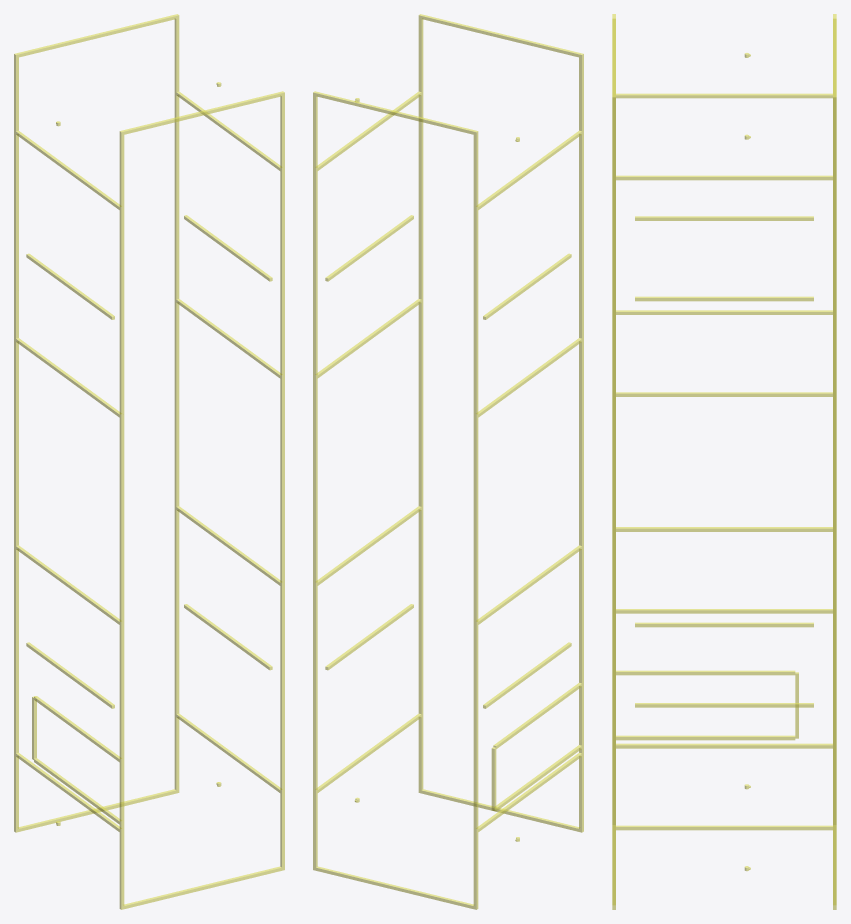
File: VMan_SafetyEnclosure.glb
3 views of the same model, side by side, from view 1: azimuth 30°, elevation 25°; view 2: azimuth 150°, elevation 25°; view 3: azimuth 270°, elevation 25° (orthographic). The views are drawn at different scales.
Parts seen in each view (by area): view 1: VMan_SafetyEnclosure; view 2: VMan_SafetyEnclosure; view 3: VMan_SafetyEnclosure.
Part boxes in pixels (box(x1,y1,x2,y2)): VMan_SafetyEnclosure: box(14, 14, 284, 909); VMan_SafetyEnclosure: box(313, 14, 583, 909); VMan_SafetyEnclosure: box(612, 14, 836, 909).
Size of the model in its own units: 2.21 by 10 by 2.5.
